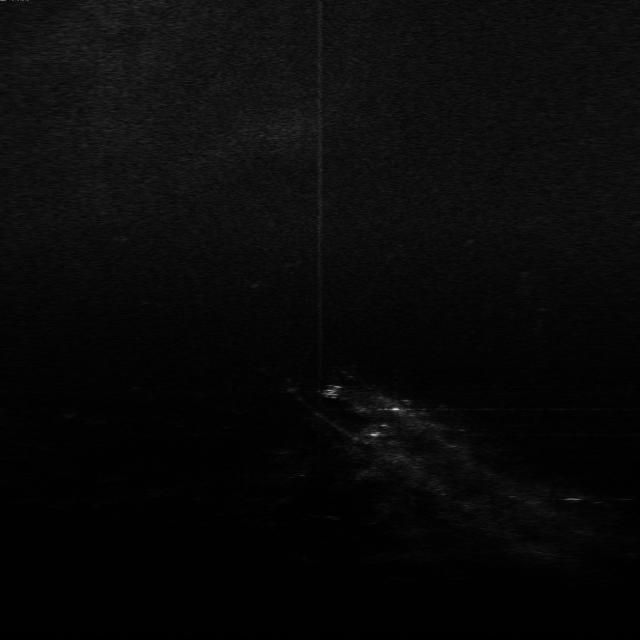rov: (322, 382, 351, 400)
